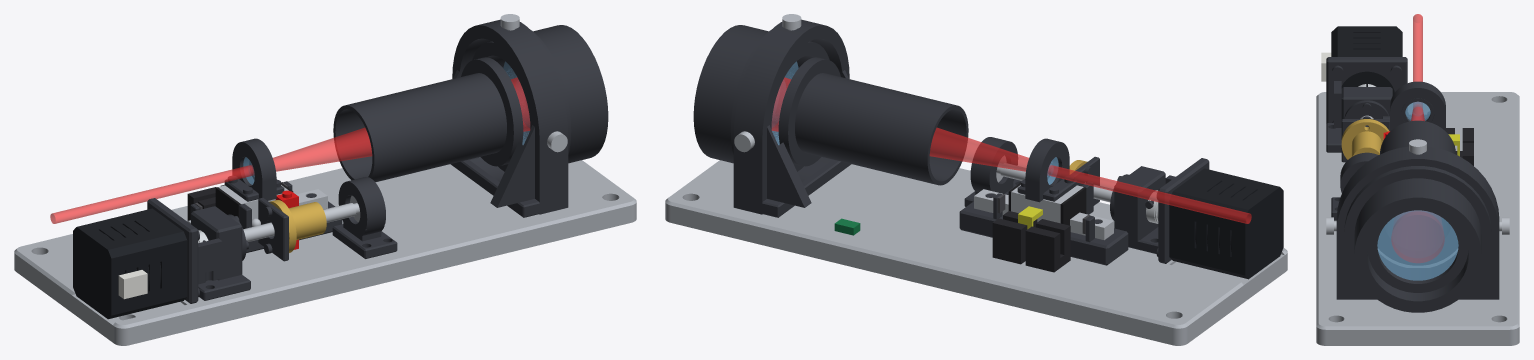
Rendered from z_axis_v0.8.glb.
The picture shows the model from 3 angles, left to right: view 1: azimuth 30°, elevation 25°; view 2: azimuth 150°, elevation 25°; view 3: azimuth 270°, elevation 25°; orthographic projection. The views are drawn at different scales.
Visible parts, largest first — view 1: Z01_ZBase, Z18_ShadeTube, O01_XYMount, Z13_Motor, O02_ObjTube, Z14_DriveBracket, Z11_BearingSup, R02_BeamExpand, R01_Beam, Z04_LensHolder, Z08_NutHousing, Z07b_NutBracket (+6 smaller); view 2: Z01_ZBase, Z18_ShadeTube, O01_XYMount, Z13_Motor, O02_ObjTube, Z14_DriveBracket, R02_BeamExpand, R01_Beam, Z22_Riser, Z04_LensHolder, Z11_BearingSup, Z15_HomeSensor (+8 smaller); view 3: Z01_ZBase, O02_ObjTube, O01_XYMount, O03_Objective, Z14_DriveBracket, Z13_Motor, Z18_ShadeTube, R02_BeamExpand, O04_ObjRing, Z04_LensHolder, Z08_NutHousing, Z11_BearingSup (+10 smaller).
Part boxes in pixels (x1,y1,x2,y2): Z01_ZBase: (14, 160, 636, 345); Z18_ShadeTube: (333, 57, 523, 182); O01_XYMount: (450, 19, 568, 217); Z13_Motor: (73, 208, 187, 319); O02_ObjTube: (472, 25, 608, 171); Z14_DriveBracket: (147, 198, 250, 303); Z11_BearingSup: (332, 177, 397, 258); R02_BeamExpand: (273, 77, 530, 171); R01_Beam: (50, 165, 254, 223); Z04_LensHolder: (224, 138, 284, 201); Z08_NutHousing: (269, 200, 326, 252); Z07b_NutBracket: (258, 197, 288, 261); Z01_ZBase: (665, 160, 1287, 345); Z18_ShadeTube: (778, 57, 968, 185); O01_XYMount: (733, 19, 851, 217); Z13_Motor: (1169, 168, 1283, 279); O02_ObjTube: (693, 25, 829, 171); Z14_DriveBracket: (1114, 158, 1209, 263); R02_BeamExpand: (771, 77, 1028, 171); R01_Beam: (1047, 165, 1251, 223); Z22_Riser: (959, 201, 1128, 265); Z04_LensHolder: (1017, 138, 1077, 202); Z11_BearingSup: (964, 137, 1020, 206); Z15_HomeSensor: (1025, 219, 1070, 272); Z01_ZBase: (1316, 92, 1519, 345); O02_ObjTube: (1344, 166, 1491, 312); O01_XYMount: (1336, 146, 1499, 299); O03_Objective: (1377, 210, 1458, 280); Z14_DriveBracket: (1326, 57, 1407, 152); Z13_Motor: (1331, 26, 1402, 95); Z18_ShadeTube: (1378, 120, 1457, 264); R02_BeamExpand: (1391, 105, 1444, 262); O04_ObjRing: (1367, 209, 1468, 292); Z04_LensHolder: (1390, 81, 1445, 131); Z08_NutHousing: (1341, 119, 1389, 159); Z11_BearingSup: (1331, 152, 1378, 220).
Bounding box in the file's own units: 225 × 73 × 80.
